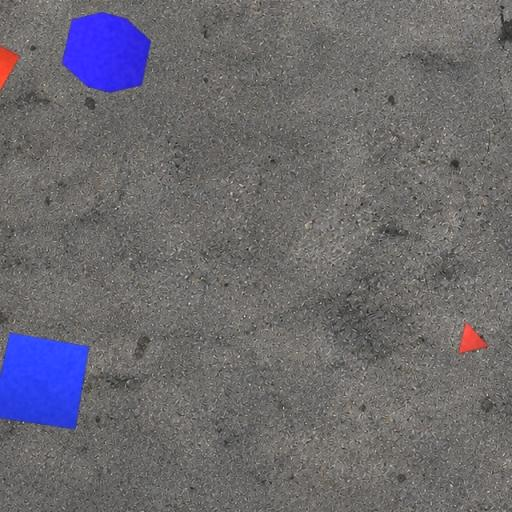BLUE_SQUARE: (0, 332, 90, 430)
RED_SQUARE: (0, 37, 21, 92)
